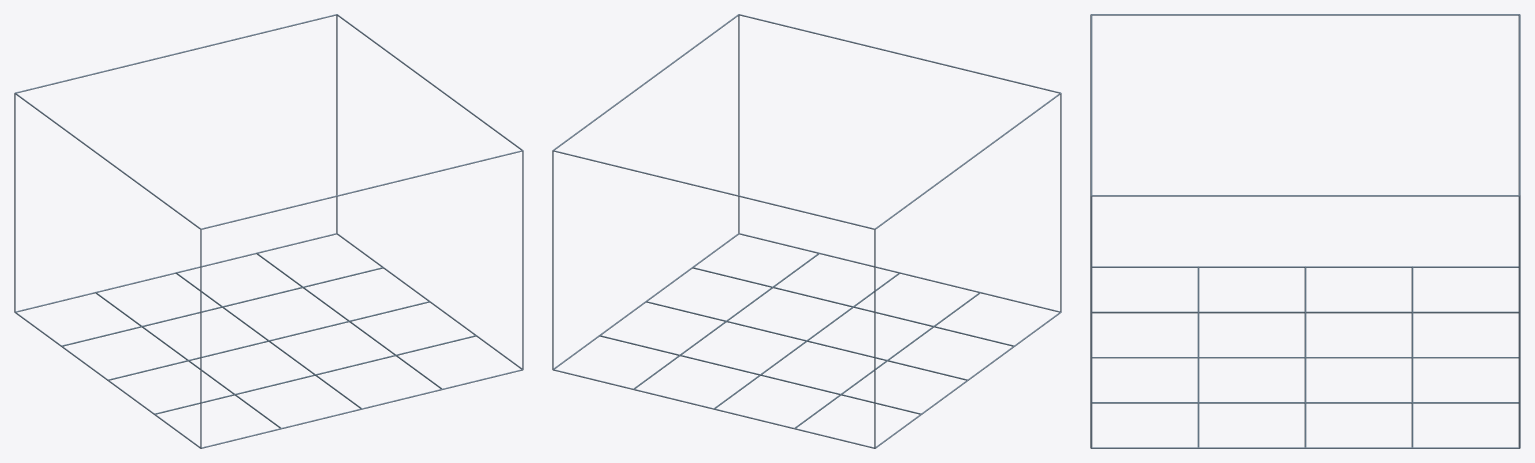
File: room_frame.glb
3 views of the same model, side by side, from view 1: azimuth 30°, elevation 25°; view 2: azimuth 150°, elevation 25°; view 3: azimuth 270°, elevation 25° (orthographic). The views are drawn at different scales.
Visible parts, largest first — view 1: geometry_0; view 2: geometry_0; view 3: geometry_0.
Part boxes in pixels (x1=…): geometry_0: x1=14, y1=14, x2=523, y2=448; geometry_0: x1=552, y1=14, x2=1061, y2=448; geometry_0: x1=1090, y1=14, x2=1520, y2=448.
Bounding box in the file's own units: 4.02 × 2.62 × 4.02.
